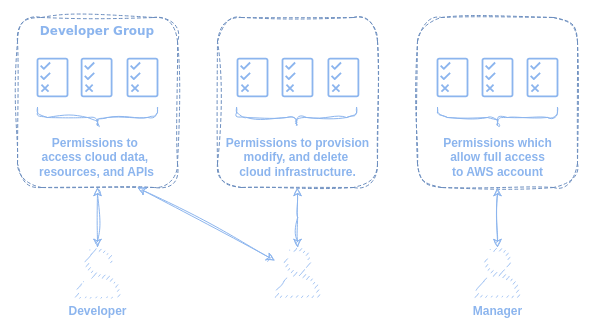
The diagram is 595 pixels wide and 336 high, and some of its shapes have lost their labels. The shapes that lost their labels are listed below. From the top down, each one's box as (x1, y1, x2, y2) in pixels, then its label:
(216, 16, 378, 188): Devops Group
(416, 16, 578, 188): Admin Group
(272, 247, 322, 297): Senior Developer
